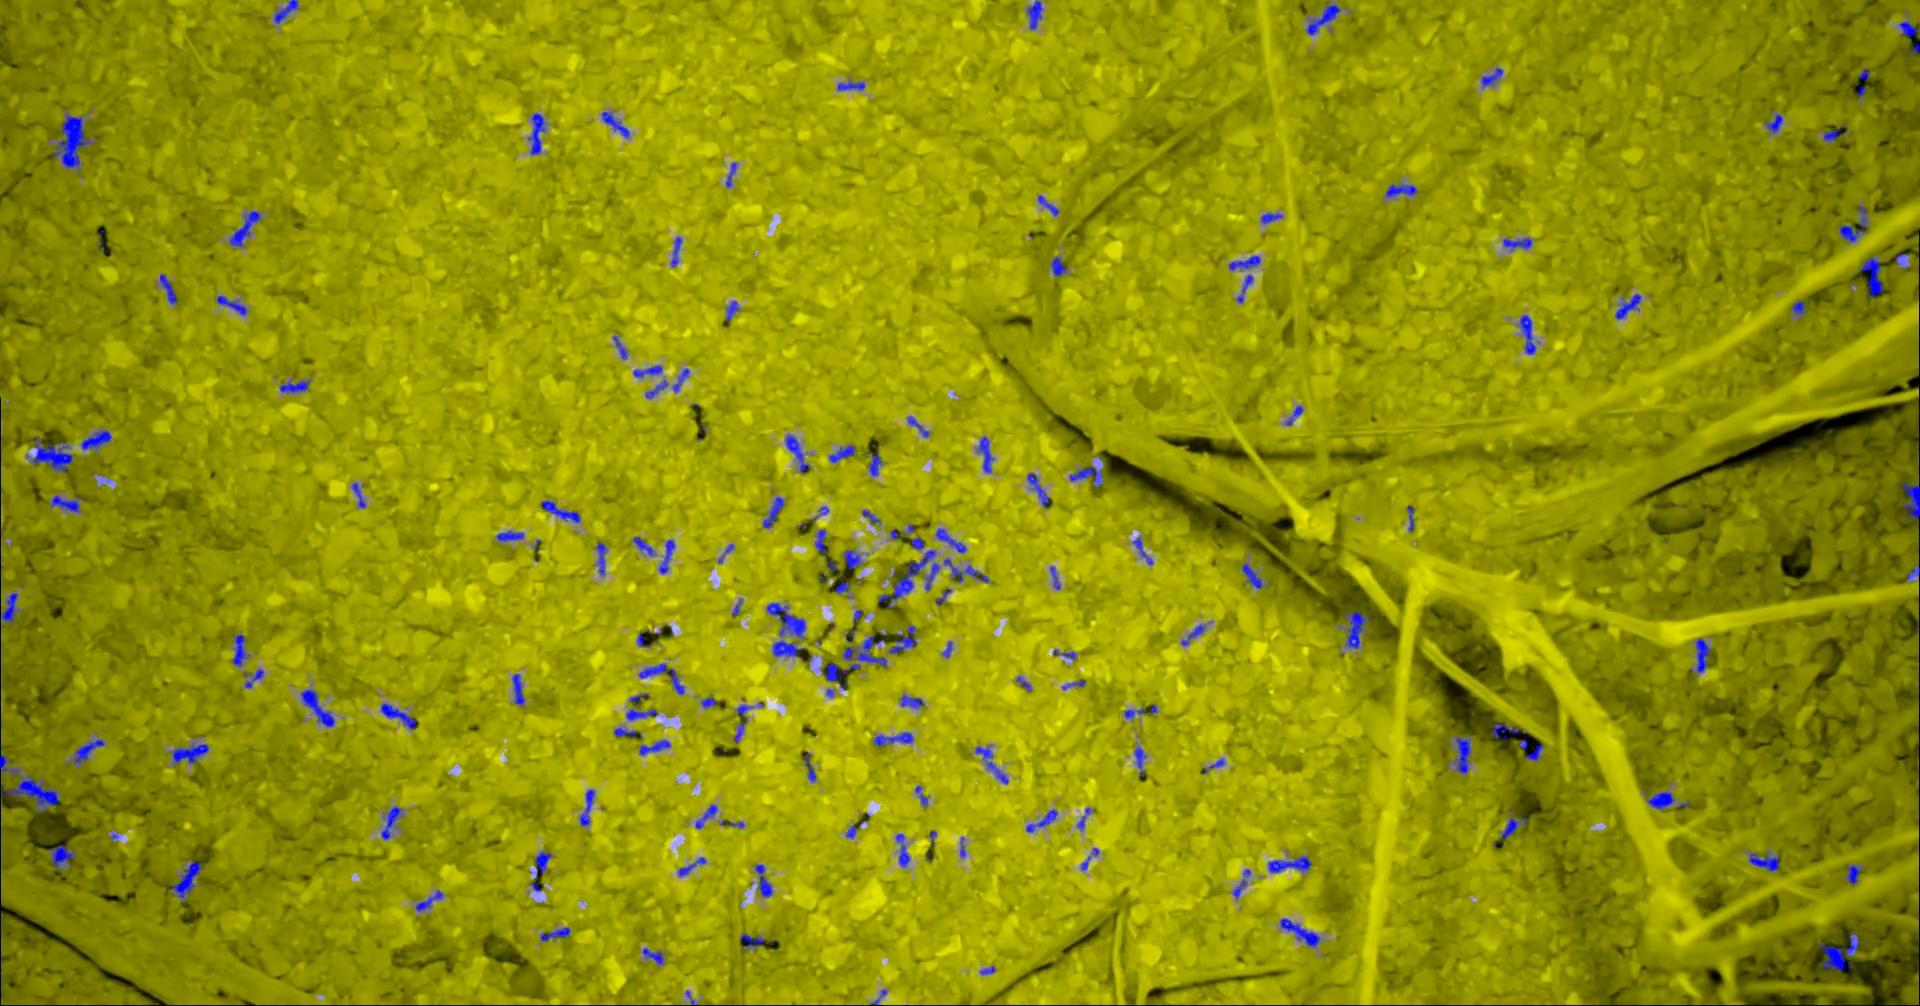ant: (0, 744, 58, 812), (877, 549, 935, 607), (53, 113, 91, 170), (842, 633, 888, 669), (30, 437, 72, 473), (1818, 934, 1858, 970), (637, 663, 684, 694), (766, 602, 805, 638), (171, 861, 202, 904), (300, 688, 334, 727), (975, 746, 1008, 784), (1279, 918, 1319, 948), (229, 210, 260, 246), (1305, 3, 1340, 36), (1837, 205, 1867, 243), (943, 558, 988, 582), (380, 702, 417, 729), (1859, 255, 1882, 297), (1900, 481, 1919, 531), (1343, 611, 1369, 648), (785, 434, 809, 473), (540, 500, 579, 522), (625, 694, 657, 720), (1026, 473, 1050, 507), (527, 112, 546, 154), (380, 805, 403, 840), (888, 625, 916, 653), (1267, 855, 1310, 873), (935, 528, 966, 553), (72, 739, 104, 763), (1025, 808, 1057, 832), (171, 743, 208, 763), (601, 111, 629, 137), (1451, 735, 1470, 774), (820, 662, 847, 688), (1500, 814, 1528, 840), (1690, 638, 1710, 672), (762, 495, 783, 527), (48, 843, 74, 870), (1519, 314, 1535, 354), (1749, 851, 1780, 871), (1614, 293, 1641, 318), (1491, 721, 1526, 739), (1069, 467, 1102, 486), (216, 295, 246, 315), (754, 862, 772, 897), (977, 436, 993, 473), (80, 429, 110, 448), (1131, 536, 1152, 564), (872, 732, 913, 746), (677, 856, 705, 876), (658, 539, 674, 573), (1232, 868, 1250, 899), (579, 789, 594, 826), (273, 0, 297, 23), (159, 273, 177, 304), (415, 890, 442, 911), (231, 634, 248, 666), (1180, 624, 1204, 645), (695, 804, 716, 828), (1241, 563, 1261, 588), (0, 592, 17, 622), (1646, 791, 1674, 809), (1228, 255, 1260, 271), (50, 495, 81, 511), (639, 739, 670, 754), (1026, 0, 1043, 29), (895, 833, 909, 868), (828, 445, 855, 462), (1236, 274, 1252, 302), (772, 640, 801, 655), (510, 673, 524, 705), (645, 379, 668, 398), (907, 417, 930, 436), (672, 368, 690, 392), (1037, 194, 1058, 215), (1481, 67, 1502, 86), (279, 379, 309, 392), (801, 752, 815, 781), (1823, 124, 1848, 141), (535, 851, 551, 875), (924, 561, 938, 589), (1385, 184, 1416, 197), (632, 536, 653, 555), (243, 668, 263, 687), (844, 819, 866, 837), (632, 365, 662, 377), (540, 927, 569, 940), (350, 481, 364, 507), (814, 528, 827, 556), (596, 541, 606, 575), (1764, 113, 1782, 132), (739, 934, 763, 948), (1285, 405, 1302, 426), (843, 549, 860, 569), (643, 948, 663, 964), (1502, 238, 1531, 249), (1134, 746, 1145, 775), (612, 337, 626, 359), (900, 694, 923, 708), (1846, 864, 1862, 884), (497, 530, 523, 541), (670, 236, 681, 265), (1525, 743, 1543, 760), (1050, 257, 1065, 276), (869, 452, 881, 475), (1898, 22, 1919, 36), (613, 727, 641, 737), (725, 163, 737, 187), (725, 300, 738, 321), (914, 785, 927, 807), (1260, 212, 1283, 224), (1049, 567, 1060, 589), (733, 721, 745, 742), (836, 81, 863, 90), (861, 509, 879, 523), (1905, 563, 1919, 580), (1051, 649, 1076, 659), (1406, 506, 1415, 531), (1124, 708, 1145, 718), (1790, 300, 1804, 315), (834, 580, 850, 593), (700, 696, 716, 708), (910, 537, 924, 549)
